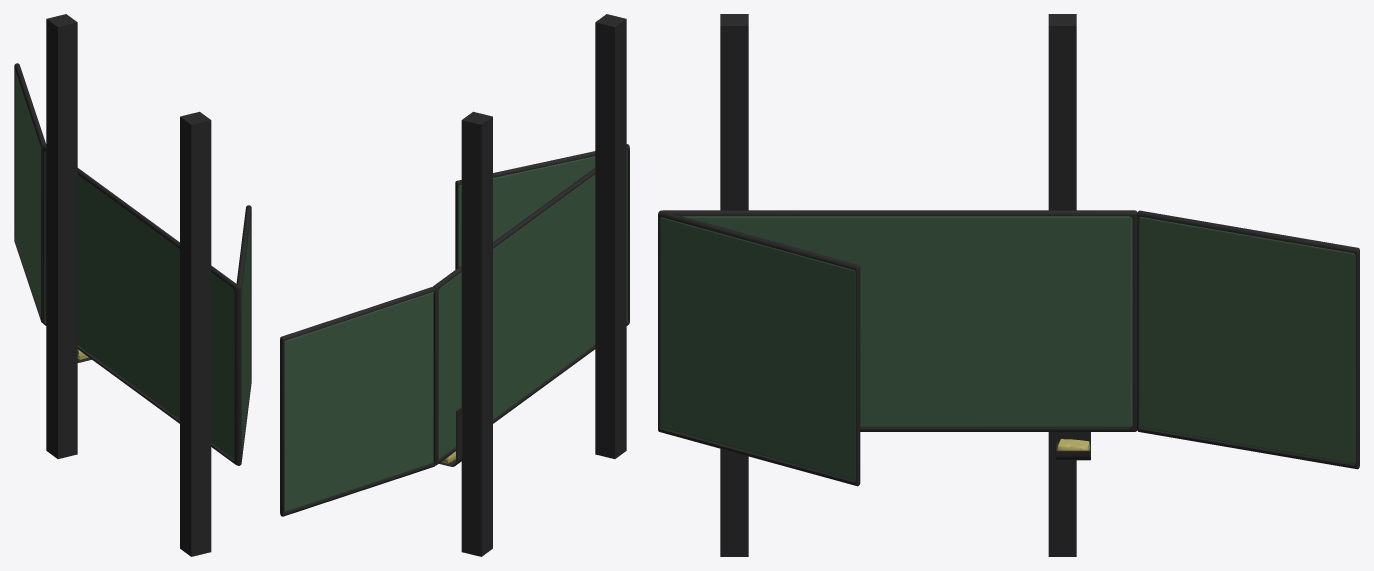
File: Tafel Final.fbx
3 views of the same model, side by side, from view 1: azimuth 30°, elevation 25°; view 2: azimuth 150°, elevation 25°; view 3: azimuth 270°, elevation 25° (orthographic). The views are drawn at different scales.
Visible parts, largest first — view 1: Tafelfläche_groß_2, Würfel_1, Würfel, Tafelfläche_groß_3, Tafelrahmen_groß_2, Tafelrahmen_groß, Tafelfläche_groß, Tafelrahmen_groß_3; view 2: Tafelfläche_groß_3, Tafelfläche_groß_2, Würfel_1, Würfel, Tafelfläche_groß, Tafelrahmen_groß_3, Tafelrahmen_groß_2, Tafelrahmen_groß, Ablage; view 3: Tafelfläche_groß_2, Tafelfläche_groß_3, Tafelfläche_groß, Würfel_1, Würfel, Tafelrahmen_groß_2, Tafelrahmen_groß_3, Tafelrahmen_groß.
Part boxes in pixels (x1=…): Tafelfläche_groß_2: x1=45, y1=151, x2=234, y2=459; Würfel_1: x1=180, y1=111, x2=211, y2=556; Würfel: x1=46, y1=14, x2=77, y2=458; Tafelfläche_groß_3: x1=15, y1=72, x2=40, y2=314; Tafelrahmen_groß_2: x1=42, y1=144, x2=237, y2=464; Tafelrahmen_groß: x1=236, y1=205, x2=251, y2=465; Tafelfläche_groß: x1=241, y1=218, x2=250, y2=451; Tafelrahmen_groß_3: x1=14, y1=63, x2=46, y2=322; Tafelfläche_groß_3: x1=284, y1=292, x2=433, y2=512; Tafelfläche_groß_2: x1=438, y1=151, x2=627, y2=459; Würfel_1: x1=595, y1=14, x2=626, y2=458; Würfel: x1=461, y1=111, x2=492, y2=556; Tafelfläche_groß: x1=458, y1=156, x2=595, y2=266; Tafelrahmen_groß_3: x1=280, y1=287, x2=435, y2=516; Tafelrahmen_groß_2: x1=433, y1=145, x2=629, y2=465; Tafelrahmen_groß: x1=455, y1=144, x2=629, y2=269; Ablage: x1=439, y1=407, x2=462, y2=466; Tafelfläche_groß_2: x1=682, y1=216, x2=1132, y2=427; Tafelfläche_groß_3: x1=1139, y1=217, x2=1355, y2=464; Tafelfläche_groß: x1=660, y1=217, x2=855, y2=481; Würfel_1: x1=720, y1=14, x2=748, y2=556; Würfel: x1=1048, y1=14, x2=1076, y2=556; Tafelrahmen_groß_2: x1=661, y1=210, x2=1137, y2=431; Tafelrahmen_groß_3: x1=1137, y1=210, x2=1359, y2=469; Tafelrahmen_groß: x1=658, y1=210, x2=860, y2=486.
Size of the model in its own units: 69.96 by 250 by 299.
